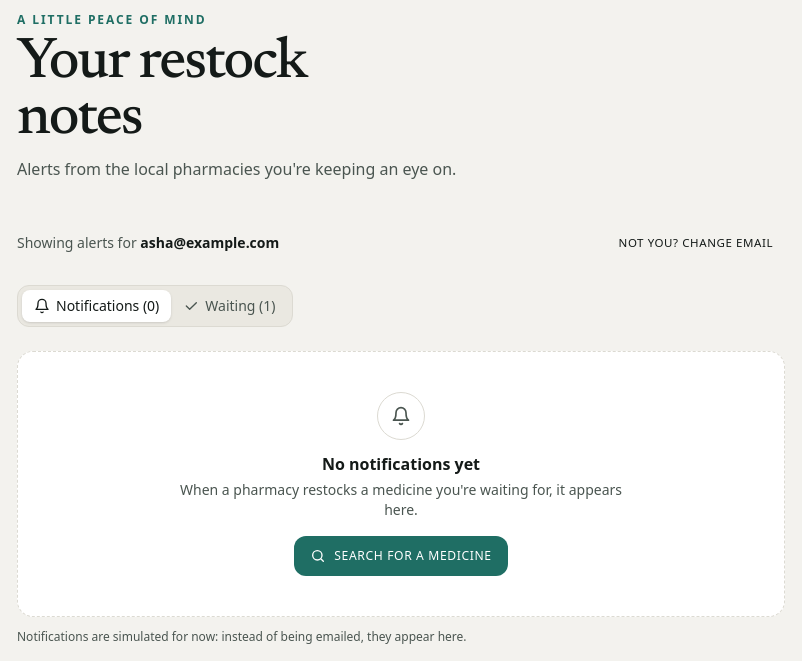
Test: NotificationsPage with an email › shows a real failure to cancel
Click the button "Waiting (1)": (229, 306) top-left (171, 290), bottom-right (288, 322)
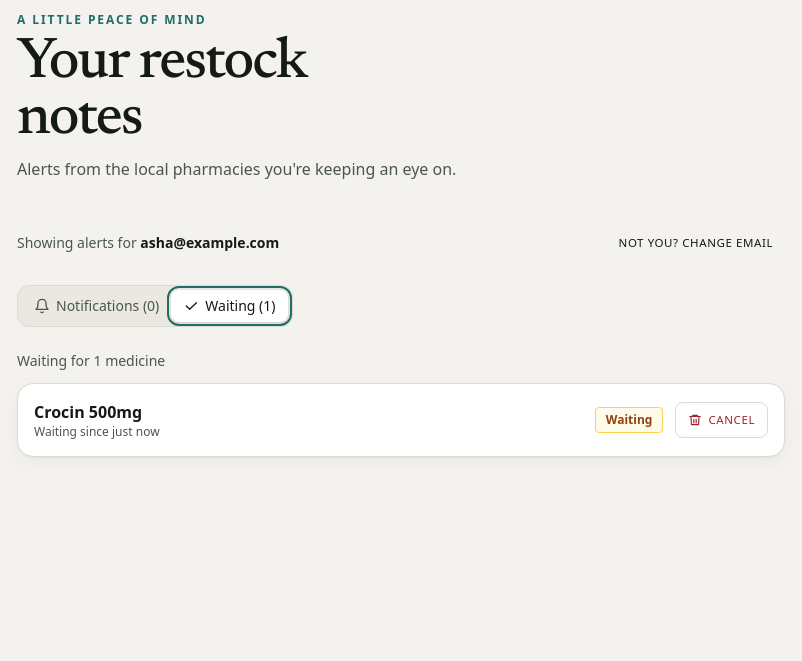
Click the button with aria-label "stop waiting": (722, 420) top-left (675, 402), bottom-right (768, 438)
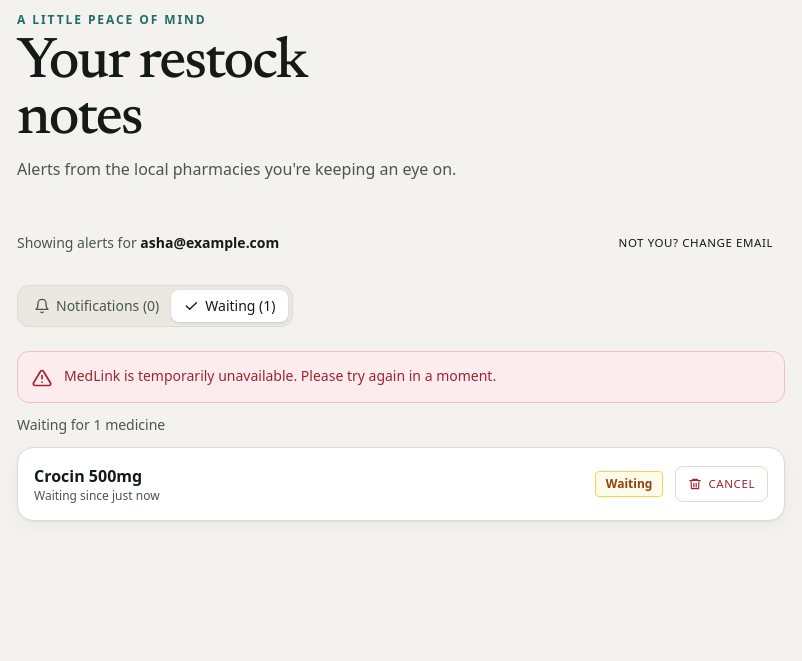
Expected: the message shows "temporarily unavailable", top-left (64, 366), bottom-right (496, 385)
